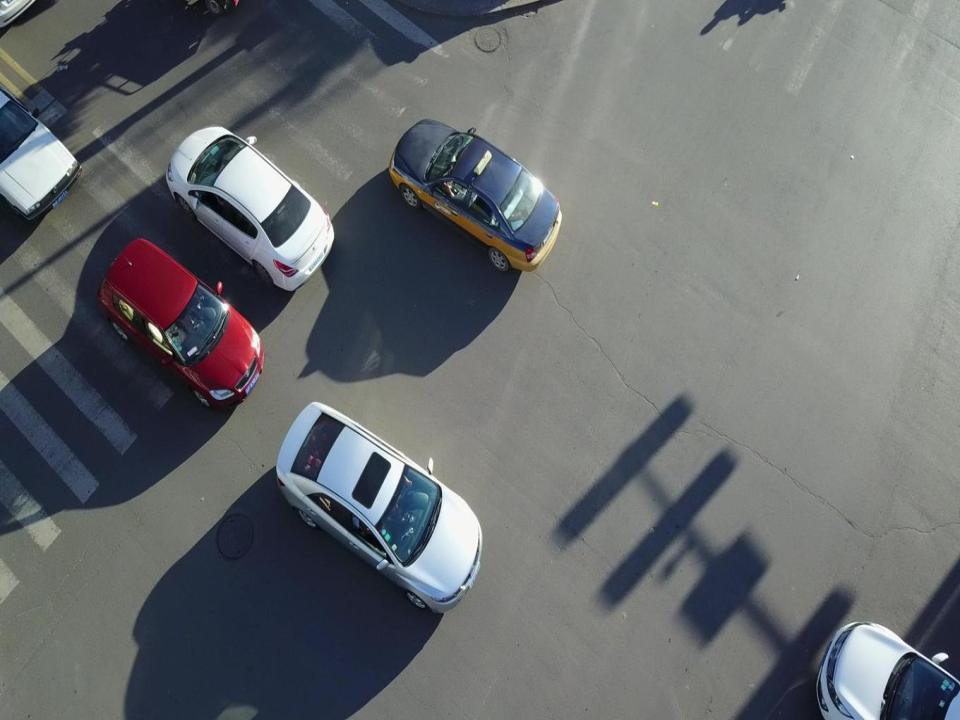car: (276, 395, 486, 622), (160, 121, 338, 294), (99, 231, 267, 414), (386, 112, 562, 278), (812, 615, 960, 720), (0, 88, 86, 225)
